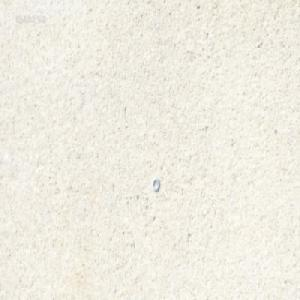Washer: (152, 177, 159, 192)
